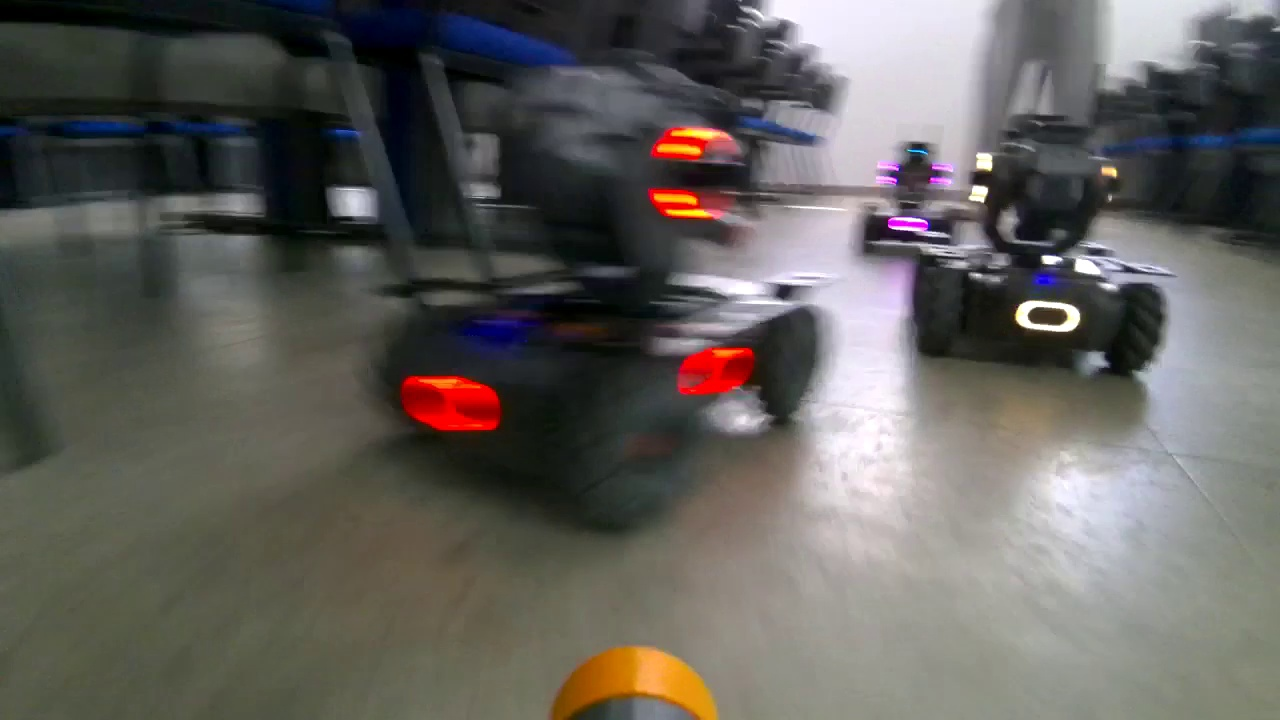robot: (293, 1, 835, 527), (901, 59, 1201, 397), (854, 121, 973, 258)
